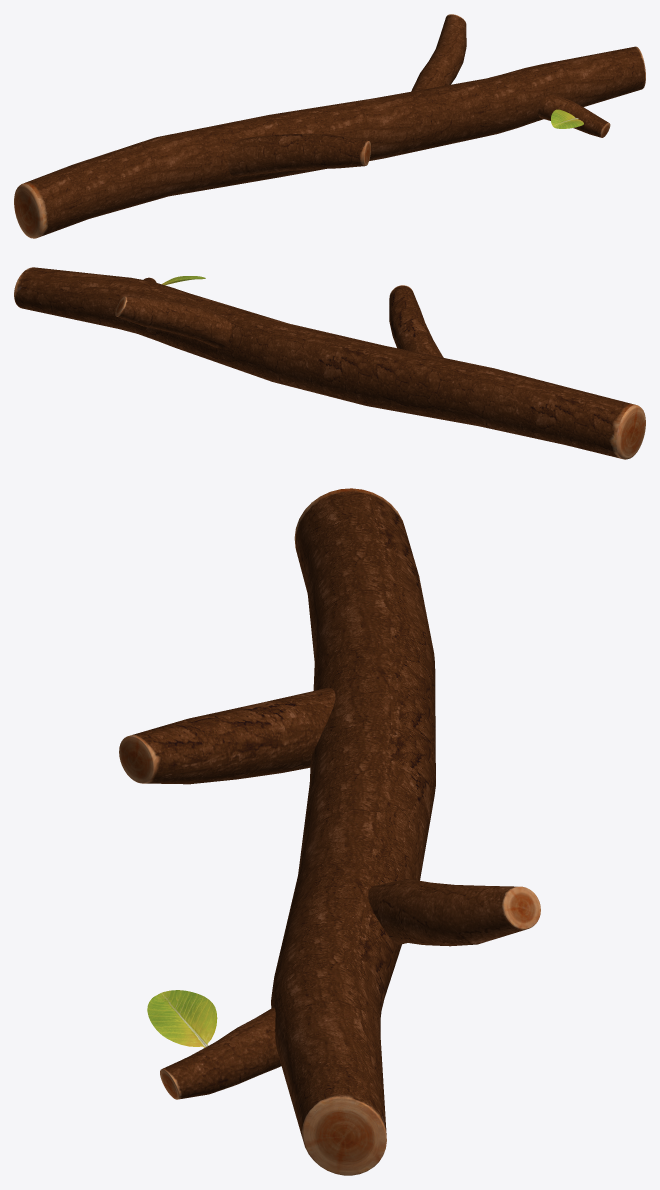
Rendered from Rama.fbx.
3 renders of one model, top to bottom at view 1: azimuth 30°, elevation 25°; view 2: azimuth 150°, elevation 25°; view 3: azimuth 270°, elevation 25°, orthographic. The views are drawn at different scales.
Visible parts, largest first — view 1: Plane; view 2: Plane; view 3: Plane.
Boxes of the visible parts, x1=… form: Plane: x1=14, y1=14, x2=645, y2=238; Plane: x1=14, y1=267, x2=645, y2=459; Plane: x1=119, y1=488, x2=540, y2=1175.
Size of the model in its own units: 0.5472 by 0.1638 by 0.0717.
1 material, 1 textured.
